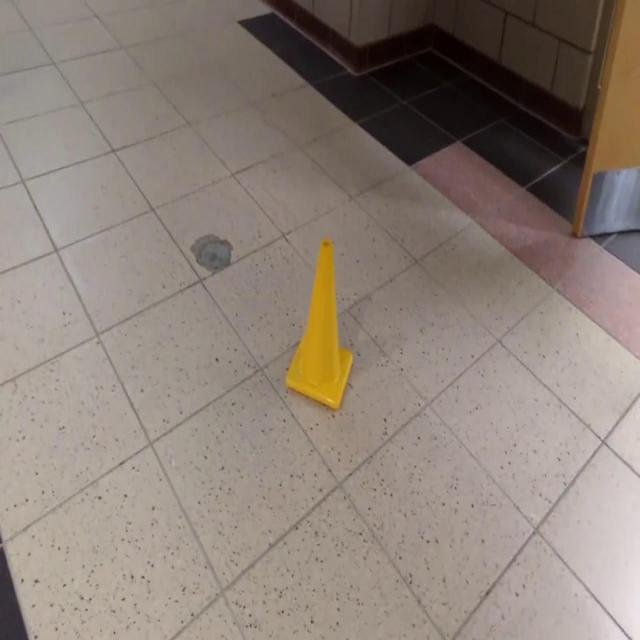frc_cone: (286, 237, 354, 411)
